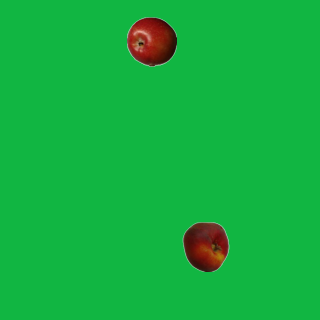Apple Braeburn: (126, 16, 176, 66)
Nectarine Flat: (180, 221, 230, 271)
